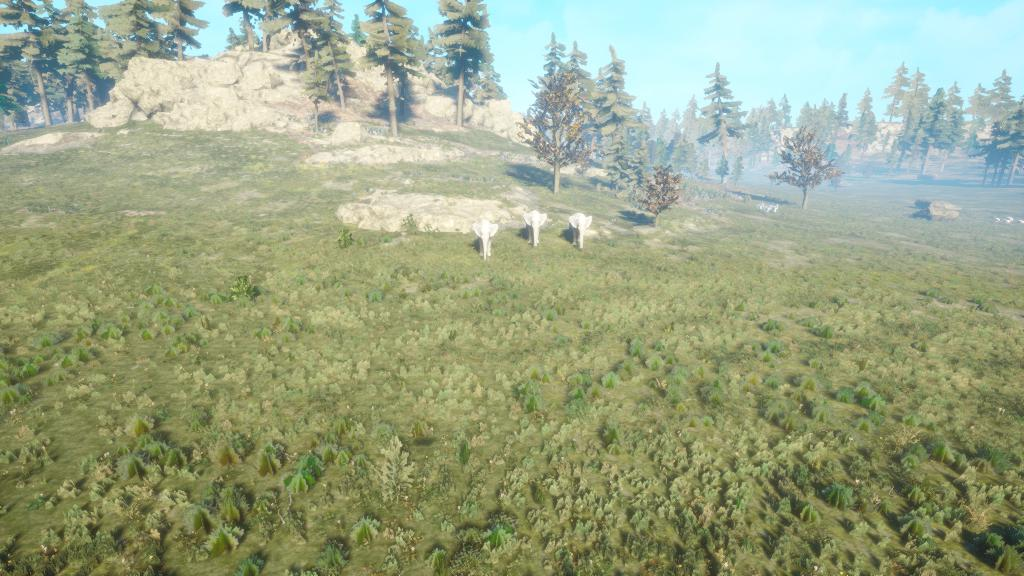elephant: (467, 218, 517, 259), (563, 207, 602, 253), (518, 201, 553, 250)
